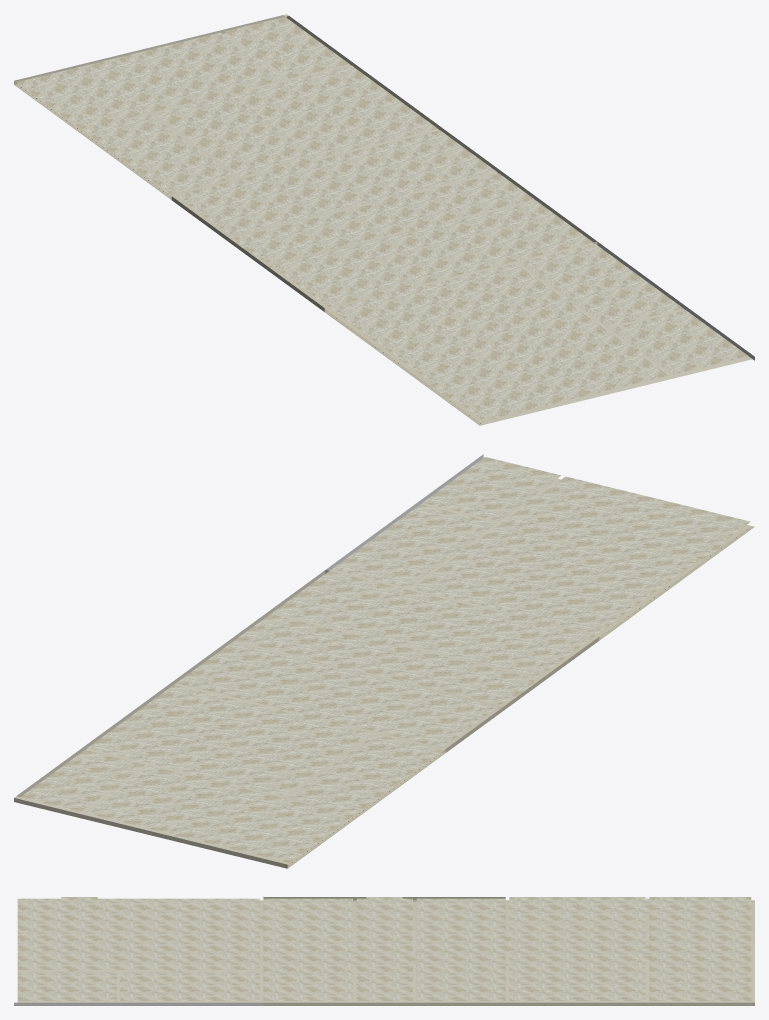
Rendered from BackHalf2ndFloor.obj.
3 views of the same model, one above another, from view 1: azimuth 30°, elevation 25°; view 2: azimuth 150°, elevation 25°; view 3: azimuth 270°, elevation 25° (orthographic). The views are drawn at different scales.
Visible parts, largest first — view 1: Box011; view 2: Box011; view 3: Box011.
Part boxes in pixels (x1,y1,x2,y2): Box011: (14,14,754,425); Box011: (14,454,754,868); Box011: (14,897,754,1005).
Size of the model in its own units: 811 by 11.81 by 2409.
